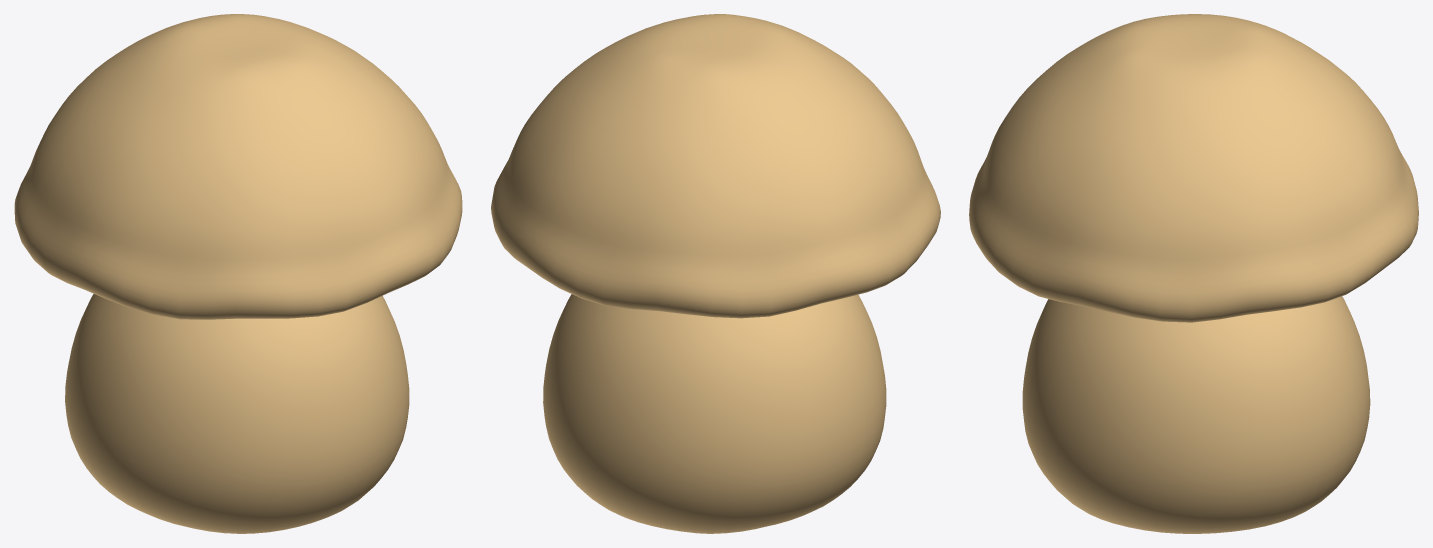
The model's file is mushroom.gltf.
The picture shows the model from 3 angles, left to right: view 1: azimuth 30°, elevation 25°; view 2: azimuth 150°, elevation 25°; view 3: azimuth 270°, elevation 25°; orthographic projection.
Parts seen in each view (by area): view 1: 19383_Short_fat_mushroom_v1.001; view 2: 19383_Short_fat_mushroom_v1.001; view 3: 19383_Short_fat_mushroom_v1.001.
Part boxes in pixels (<box>): 19383_Short_fat_mushroom_v1.001: <box>14,14,462,533</box>; 19383_Short_fat_mushroom_v1.001: <box>491,14,940,533</box>; 19383_Short_fat_mushroom_v1.001: <box>969,14,1418,533</box>.
Bounding box in the file's own units: 0.4113 × 0.4572 × 0.4107.
